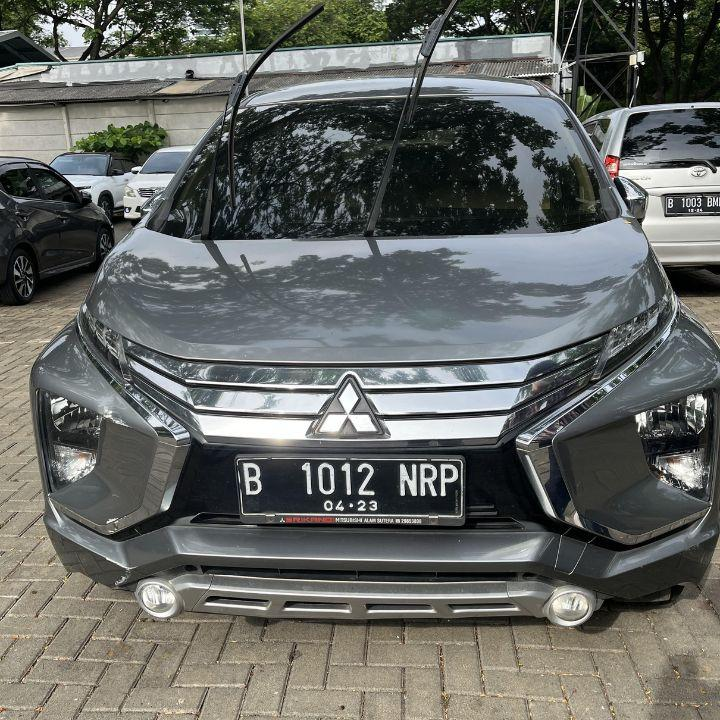plat: (238, 457, 464, 525)
